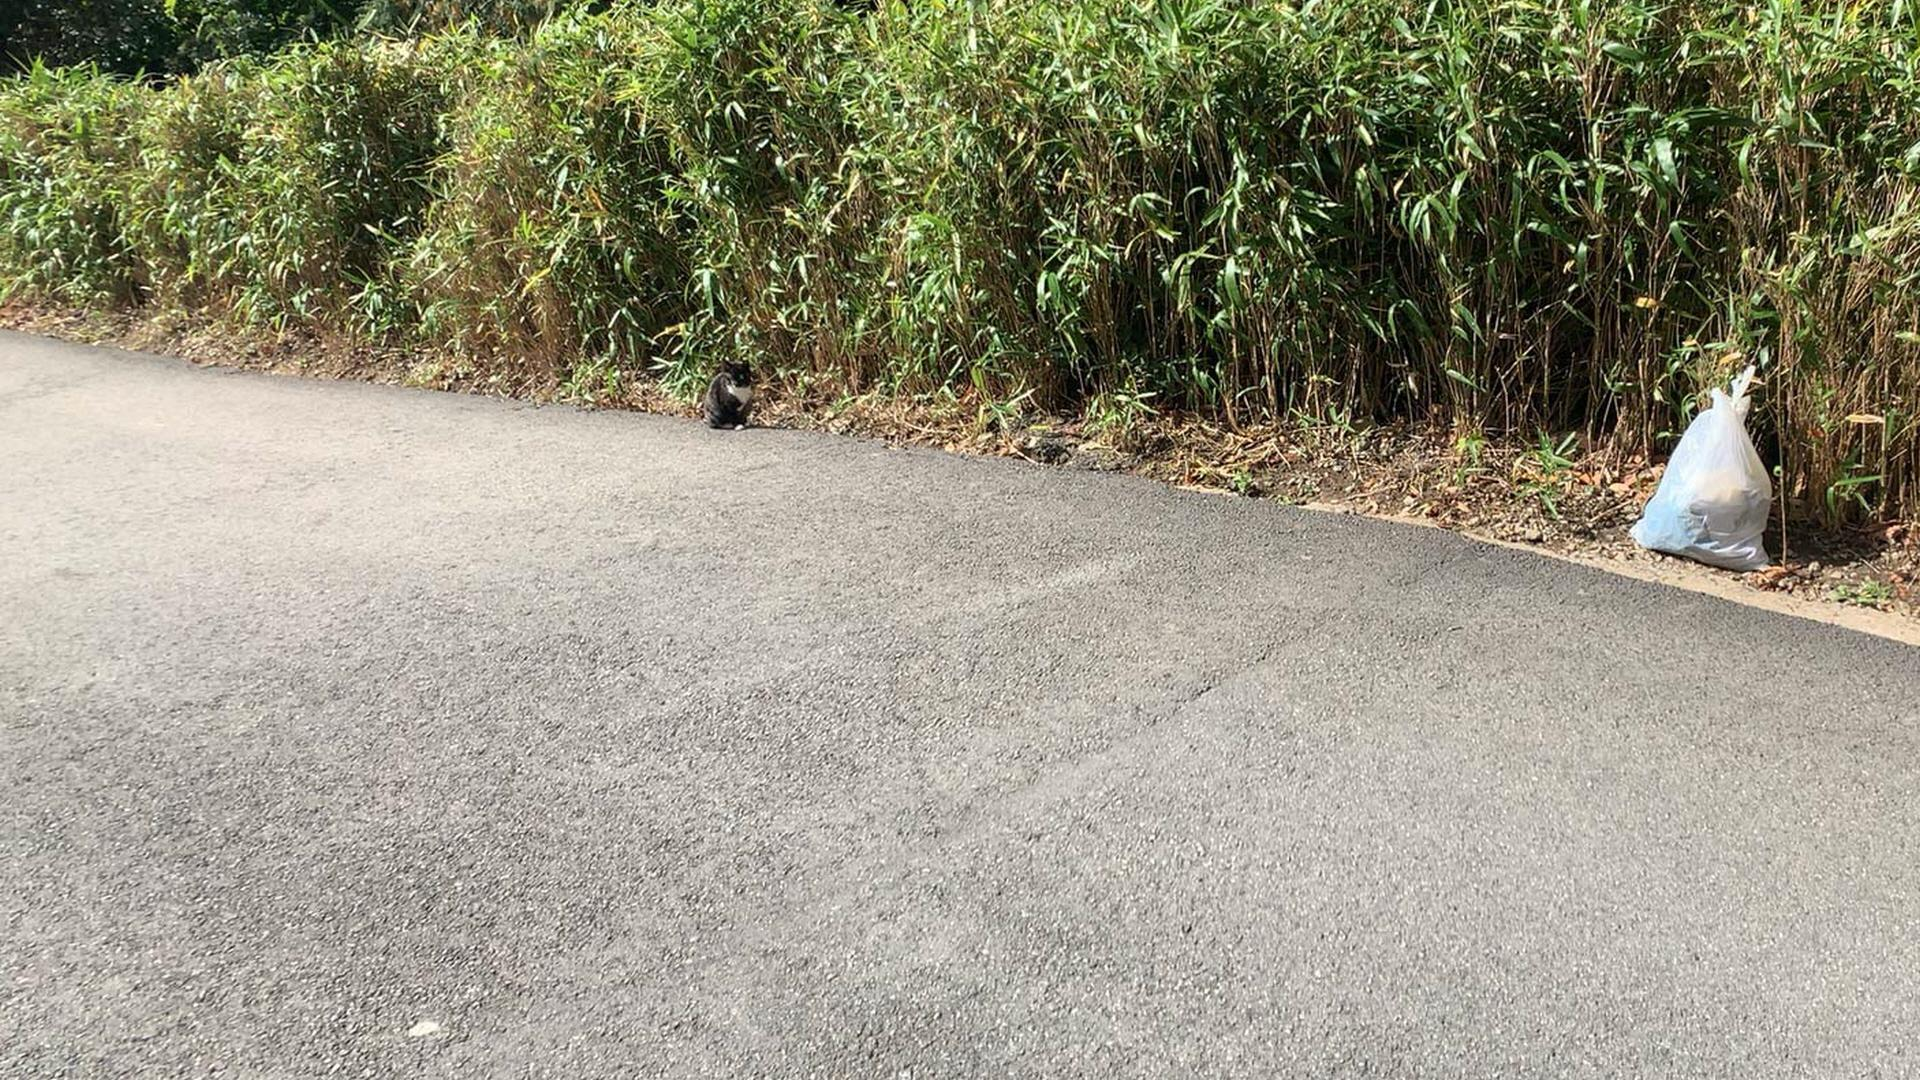white_bag: (1621, 361, 1778, 574)
